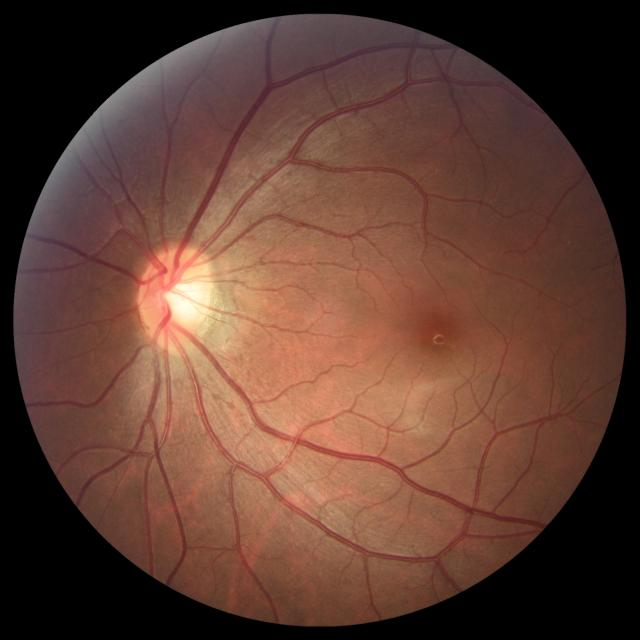OC: (155, 270, 201, 322)
OD: (138, 242, 217, 348)
